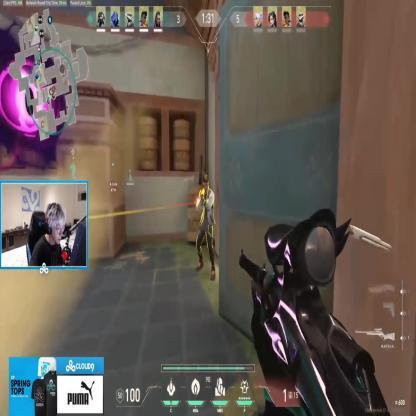enemy: (196, 175, 216, 282)
enemy_head: (202, 174, 210, 192)
